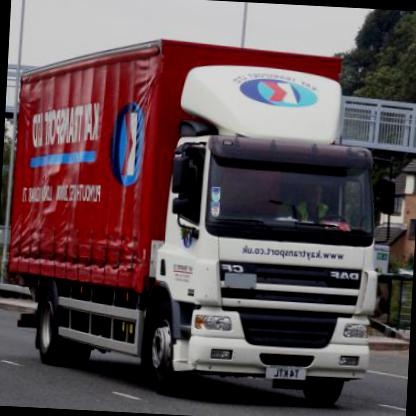truck: (9, 34, 402, 415)
